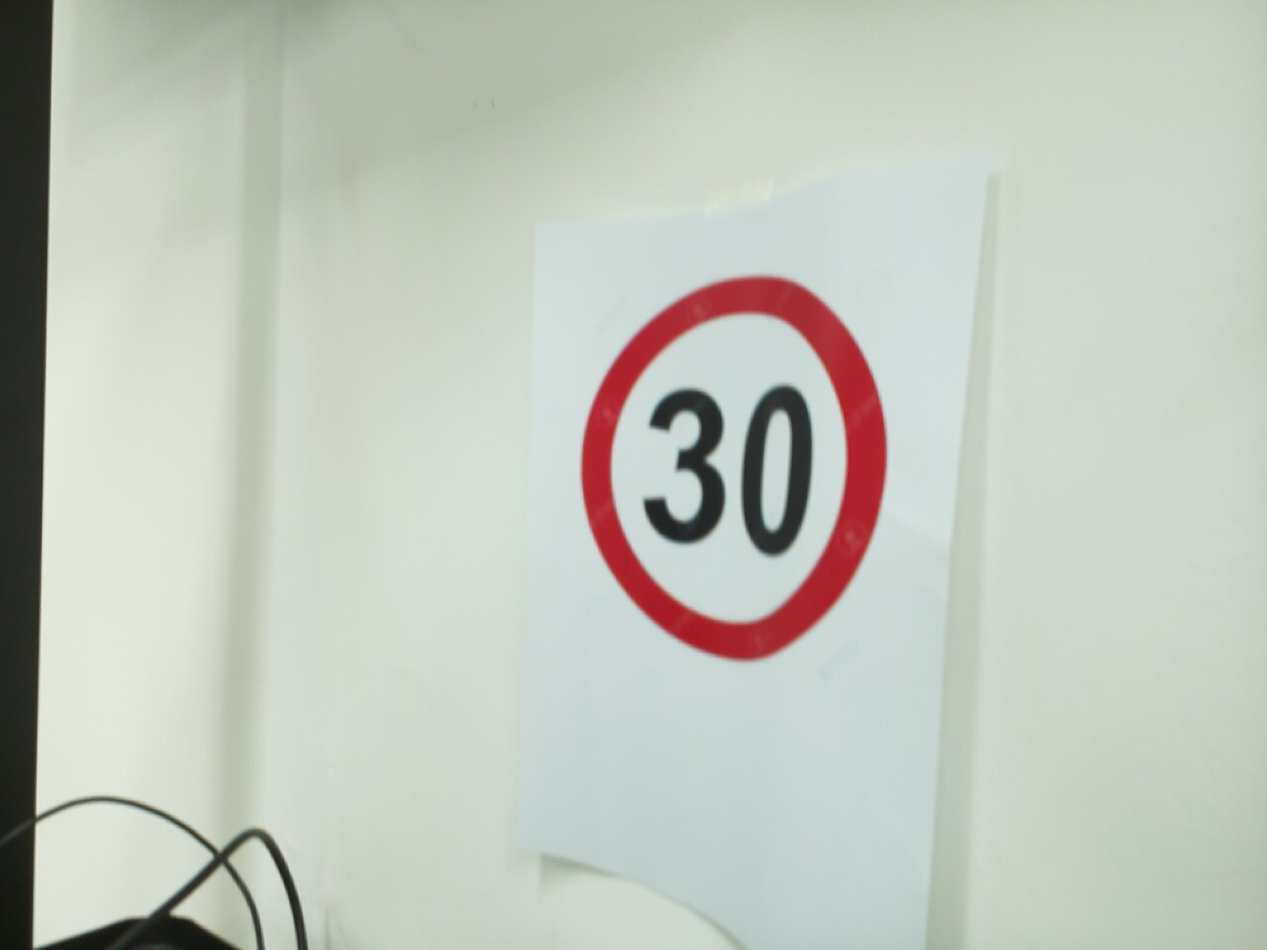speed_30: (571, 265, 897, 672)
